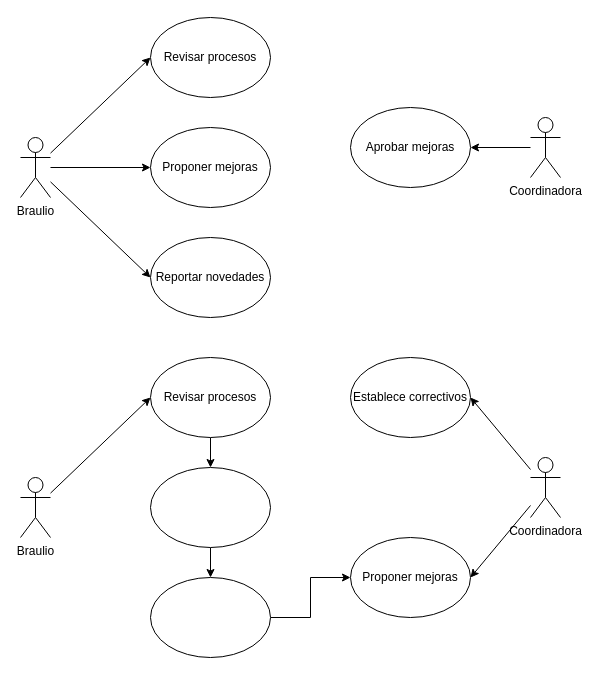
This 599x675 diagram has some shape labels left out. Each missing label, with the box of its shape:
Enfadarse con el quique: (150, 576, 270, 658)
Reportar problemas: (150, 466, 270, 548)
